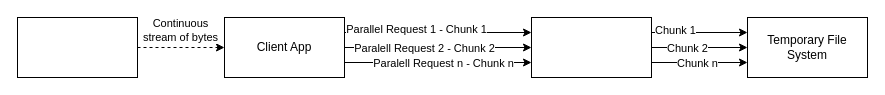
Some shapes in this 885 by 95 pixel diagram are drawn without their labels. The box of each missing label's shape, as (x1, y1, x2, y2) in pixels:
Device File System: (16, 16, 138, 78)
System: (530, 16, 652, 78)
